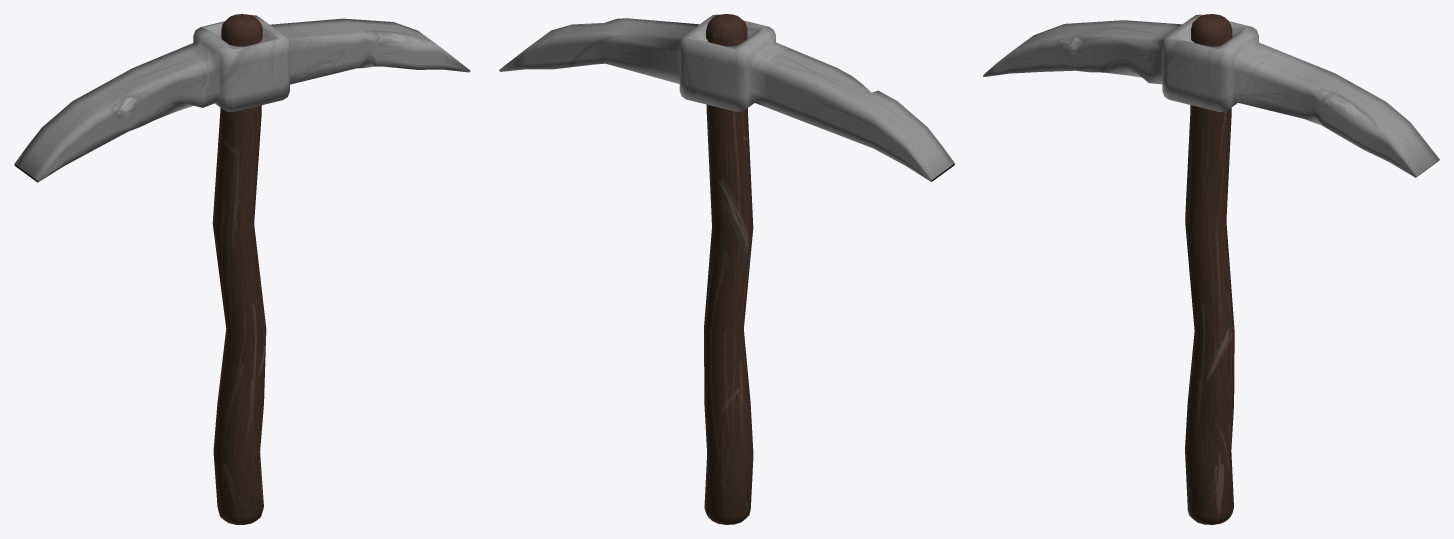
Rendered from Pickaxe.fbx.
3 renders of one model, left to right at view 1: azimuth 30°, elevation 25°; view 2: azimuth 150°, elevation 25°; view 3: azimuth 330°, elevation 25°, orthographic.
Visible parts, largest first — view 1: Cube.003, Cylinder.001; view 2: Cube.003, Cylinder.001; view 3: Cube.003, Cylinder.001.
Boxes of the visible parts, <box> form: Cube.003: <box>14,15,470,182</box>; Cylinder.001: <box>212,14,266,524</box>; Cube.003: <box>499,14,954,181</box>; Cylinder.001: <box>704,14,753,524</box>; Cube.003: <box>983,14,1439,177</box>; Cylinder.001: <box>1185,14,1234,524</box>.
Bounding box in the file's own units: 556 × 614 × 73.01.
1 material, 1 textured.
